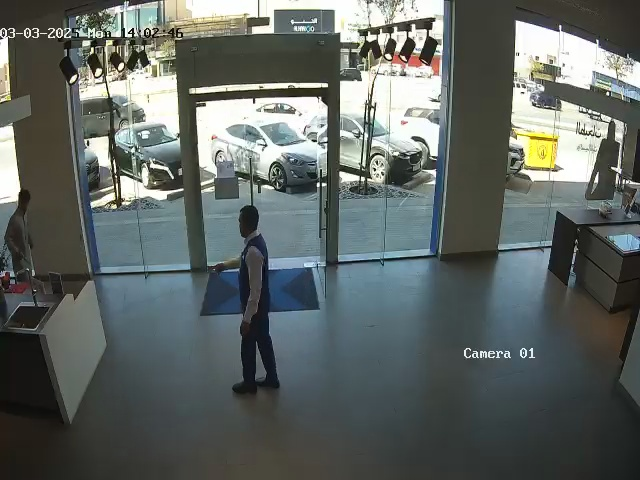employee: (209, 205, 281, 395)
male: (4, 189, 35, 279)
